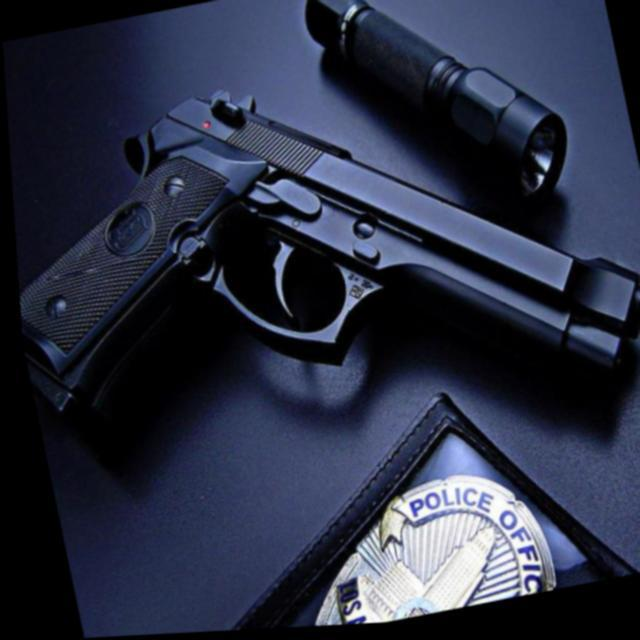weapon: (2, 20, 640, 495), (296, 0, 578, 243)
